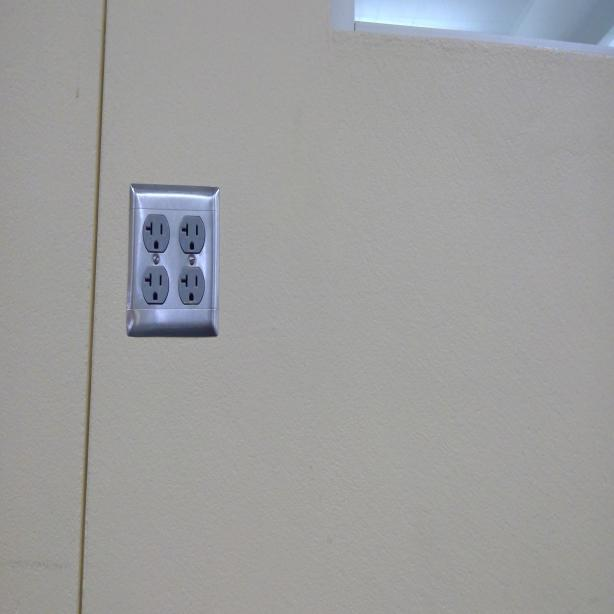typeb: (140, 268, 170, 304), (142, 216, 168, 254), (178, 267, 203, 305), (178, 217, 203, 252)
